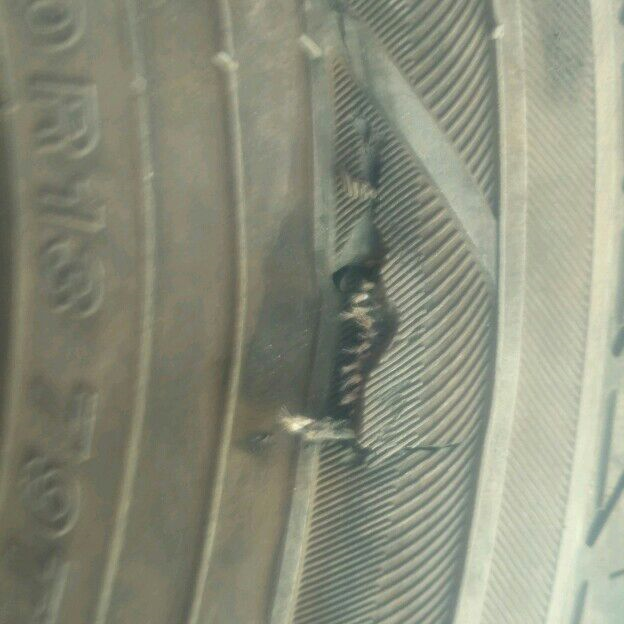cut: (328, 119, 407, 469)
